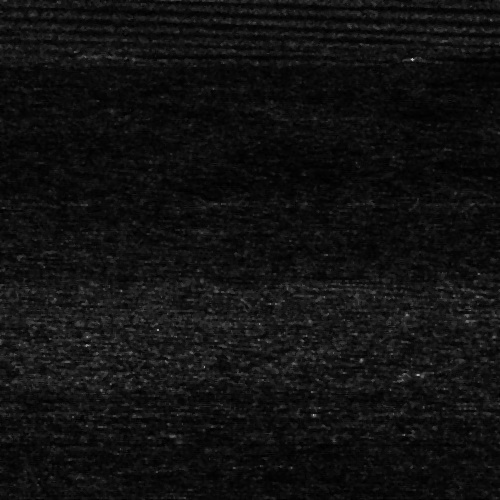object: (108, 47, 139, 58), (406, 54, 459, 59)
shadow: (123, 47, 189, 58), (433, 54, 500, 59)
